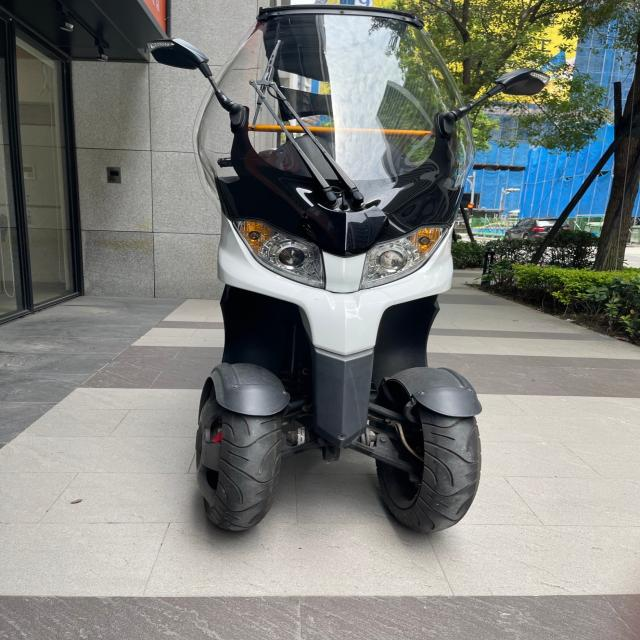Bike: (149, 3, 547, 538)
